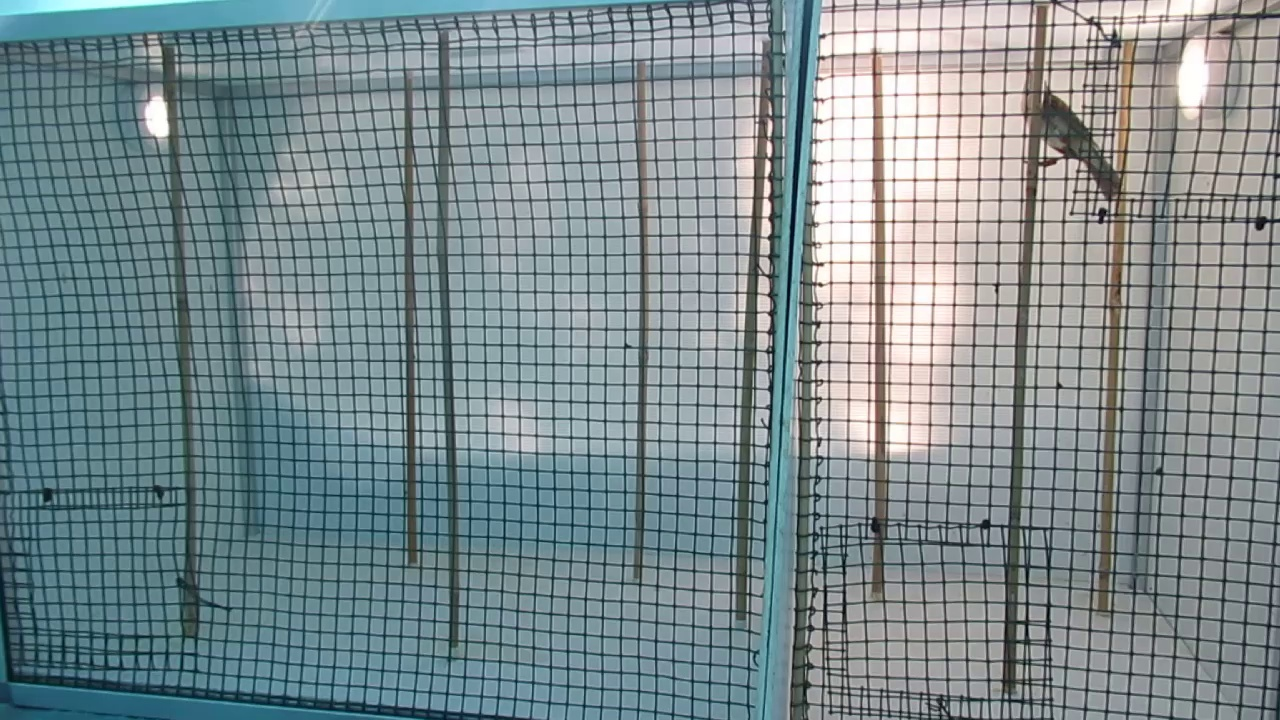bird: (1024, 61, 1110, 208)
stick: (1002, 13, 1050, 684), (1094, 45, 1139, 605), (733, 46, 777, 617), (160, 49, 200, 630), (431, 37, 460, 643), (866, 59, 890, 588), (634, 62, 653, 577), (401, 78, 421, 564)
